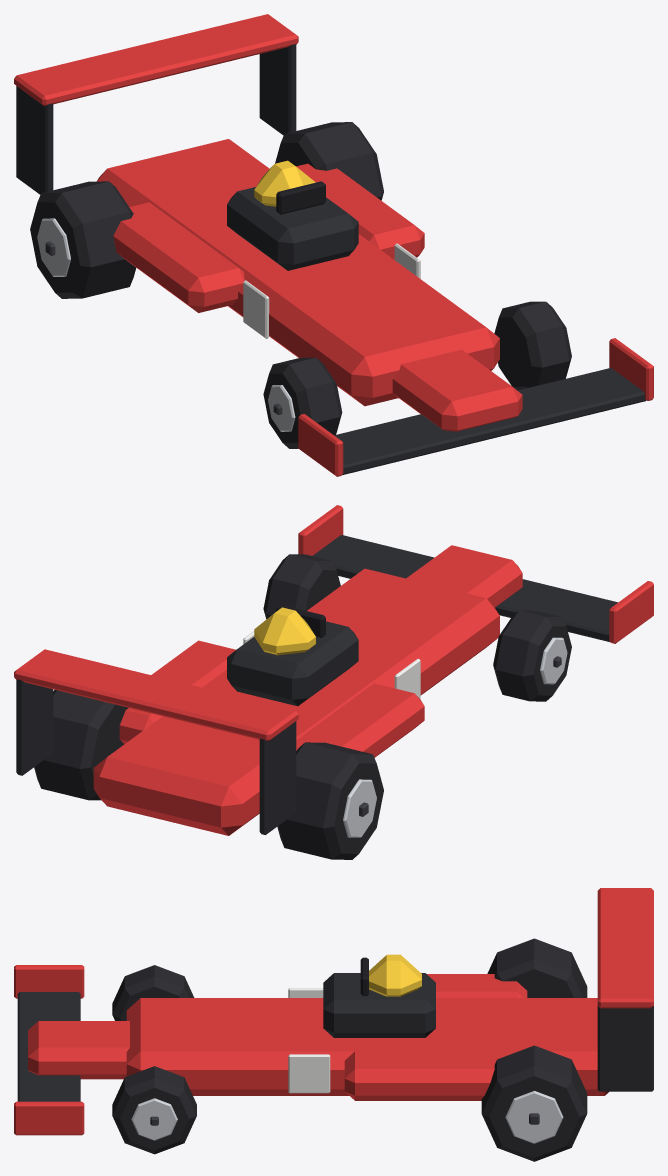
The model's file is RaceCar.fbx.
The picture shows the model from 3 angles, top to bottom: view 1: azimuth 30°, elevation 25°; view 2: azimuth 150°, elevation 25°; view 3: azimuth 270°, elevation 25°; orthographic projection. The views are drawn at different scales.
Visible parts, largest first — view 1: RaceCar, RaceCar_WheelBR, RaceCar_WheelFL, RaceCar_WheelFR, RaceCar_WheelBL; view 2: RaceCar, RaceCar_WheelBR, RaceCar_WheelBL, RaceCar_WheelFR, RaceCar_WheelFL; view 3: RaceCar, RaceCar_WheelBL, RaceCar_WheelFL, RaceCar_WheelBR, RaceCar_WheelFR.
Boxes of the visible parts, x1,y1,x2,y2 form: RaceCar: [14, 14, 653, 476]; RaceCar_WheelBR: [30, 181, 135, 298]; RaceCar_WheelFL: [494, 301, 571, 390]; RaceCar_WheelFR: [263, 357, 342, 448]; RaceCar_WheelBL: [275, 122, 383, 200]; RaceCar: [14, 505, 653, 835]; RaceCar_WheelBR: [277, 742, 383, 859]; RaceCar_WheelBL: [34, 690, 128, 800]; RaceCar_WheelFR: [493, 610, 571, 701]; RaceCar_WheelFL: [263, 554, 340, 619]; RaceCar: [14, 888, 653, 1135]; RaceCar_WheelBL: [481, 1045, 587, 1161]; RaceCar_WheelFL: [112, 1066, 196, 1154]; RaceCar_WheelBR: [487, 938, 587, 997]; RaceCar_WheelFR: [112, 965, 194, 1020].
Bounding box in the file's own units: 4.72 × 2.42 × 9.1.
Materials: 1 (1 with a texture image).
